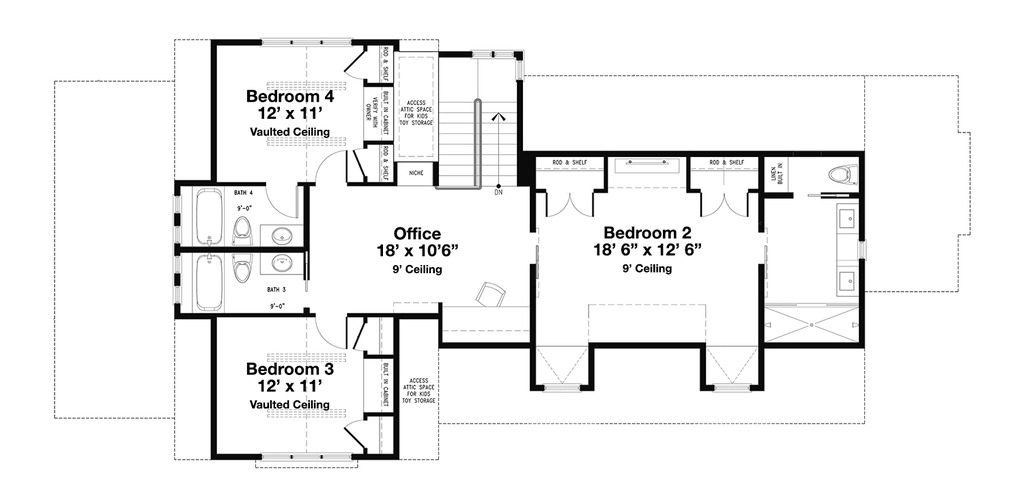door: (697, 185, 750, 217), (542, 188, 595, 219), (263, 180, 300, 221), (311, 149, 350, 184), (314, 311, 349, 349), (338, 418, 373, 451), (340, 49, 366, 83)
large_sink: (226, 251, 256, 286), (826, 161, 861, 189), (229, 215, 257, 245)
small_sink: (259, 248, 306, 278), (261, 222, 303, 245), (835, 203, 861, 236), (837, 265, 859, 296)
stairs: (439, 56, 515, 193)
tub: (193, 249, 225, 315), (192, 185, 225, 245)
windows: (255, 36, 357, 51), (257, 449, 356, 463), (168, 190, 185, 244), (539, 377, 585, 394), (169, 253, 182, 309), (710, 380, 760, 394)
